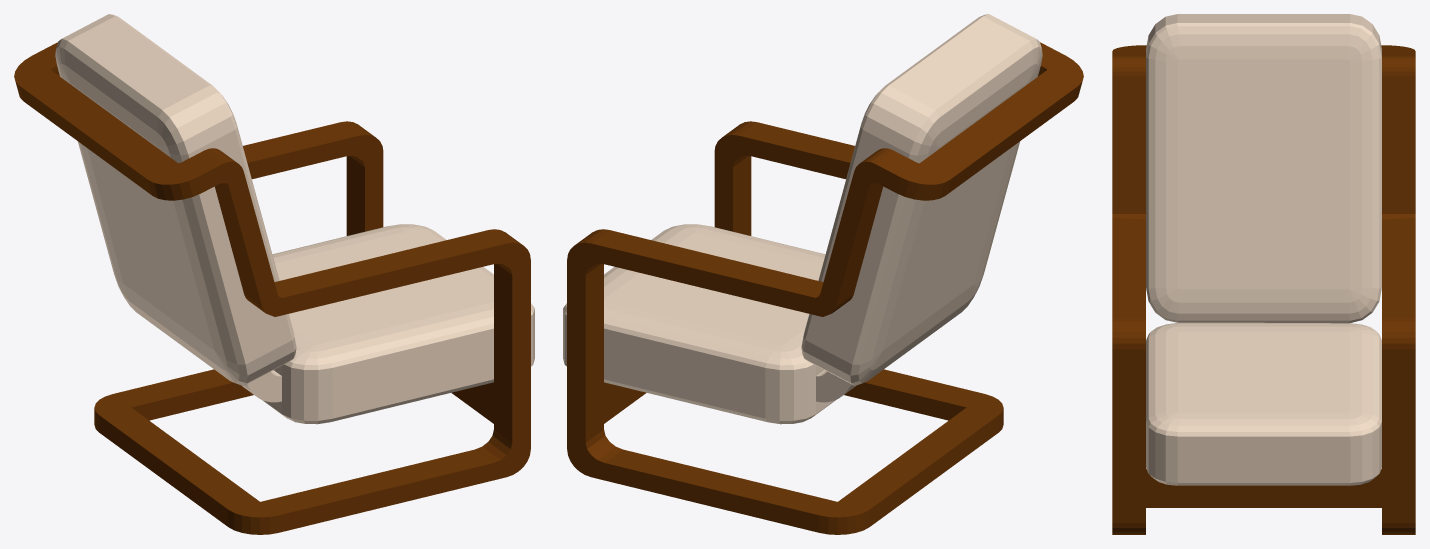
Rendered from chair.glb.
3 views of the same model, side by side, from view 1: azimuth 30°, elevation 25°; view 2: azimuth 150°, elevation 25°; view 3: azimuth 270°, elevation 25° (orthographic). The views are drawn at different scales.
Parts seen in each view (by area): view 1: Cube, Cube.002; view 2: Cube, Cube.002; view 3: Cube, Cube.002.
Boxes of the visible parts, x1,y1,x2,y2 form: Cube: [55, 14, 534, 424]; Cube.002: [14, 42, 530, 534]; Cube: [563, 14, 1042, 424]; Cube.002: [567, 42, 1083, 534]; Cube: [1146, 14, 1381, 485]; Cube.002: [1112, 45, 1415, 534].
Bounding box in the file's own units: 2.51 × 2.57 × 1.8.
Materials: 3 (3 with a texture image).
